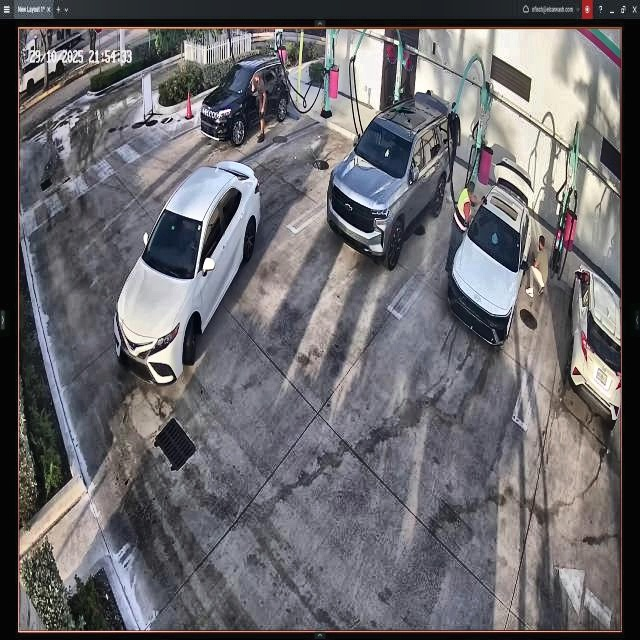Car: (113, 160, 260, 379), (323, 92, 452, 262), (450, 161, 535, 341), (201, 56, 287, 144)
